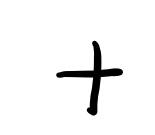plus: (56, 41, 123, 116)
